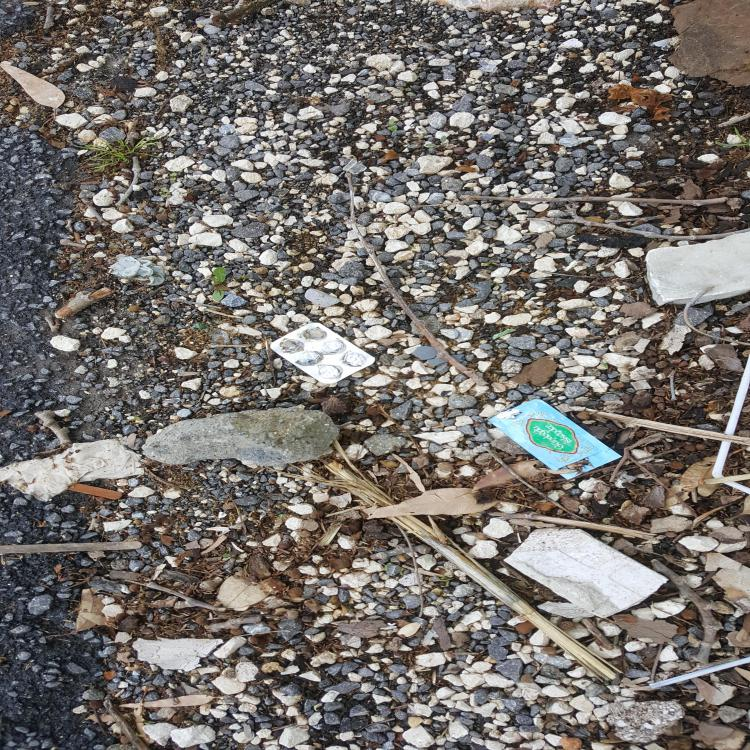Other plastic: (487, 399, 622, 480), (497, 410, 521, 419)
Plastic straw: (711, 354, 750, 494), (647, 656, 750, 688)
Unlabeled litter: (0, 438, 146, 502), (343, 160, 367, 175), (480, 58, 496, 72), (274, 189, 288, 196)
